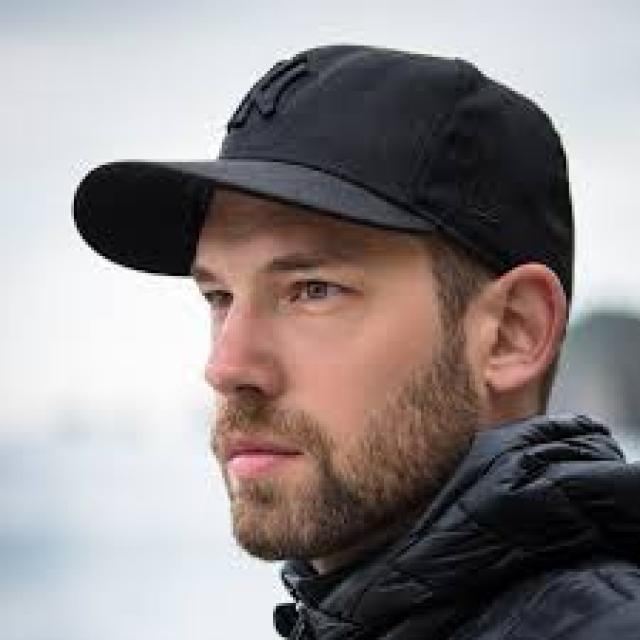3_gorra: (71, 39, 578, 280)
